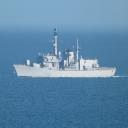Fragata: (14, 28, 118, 80)
